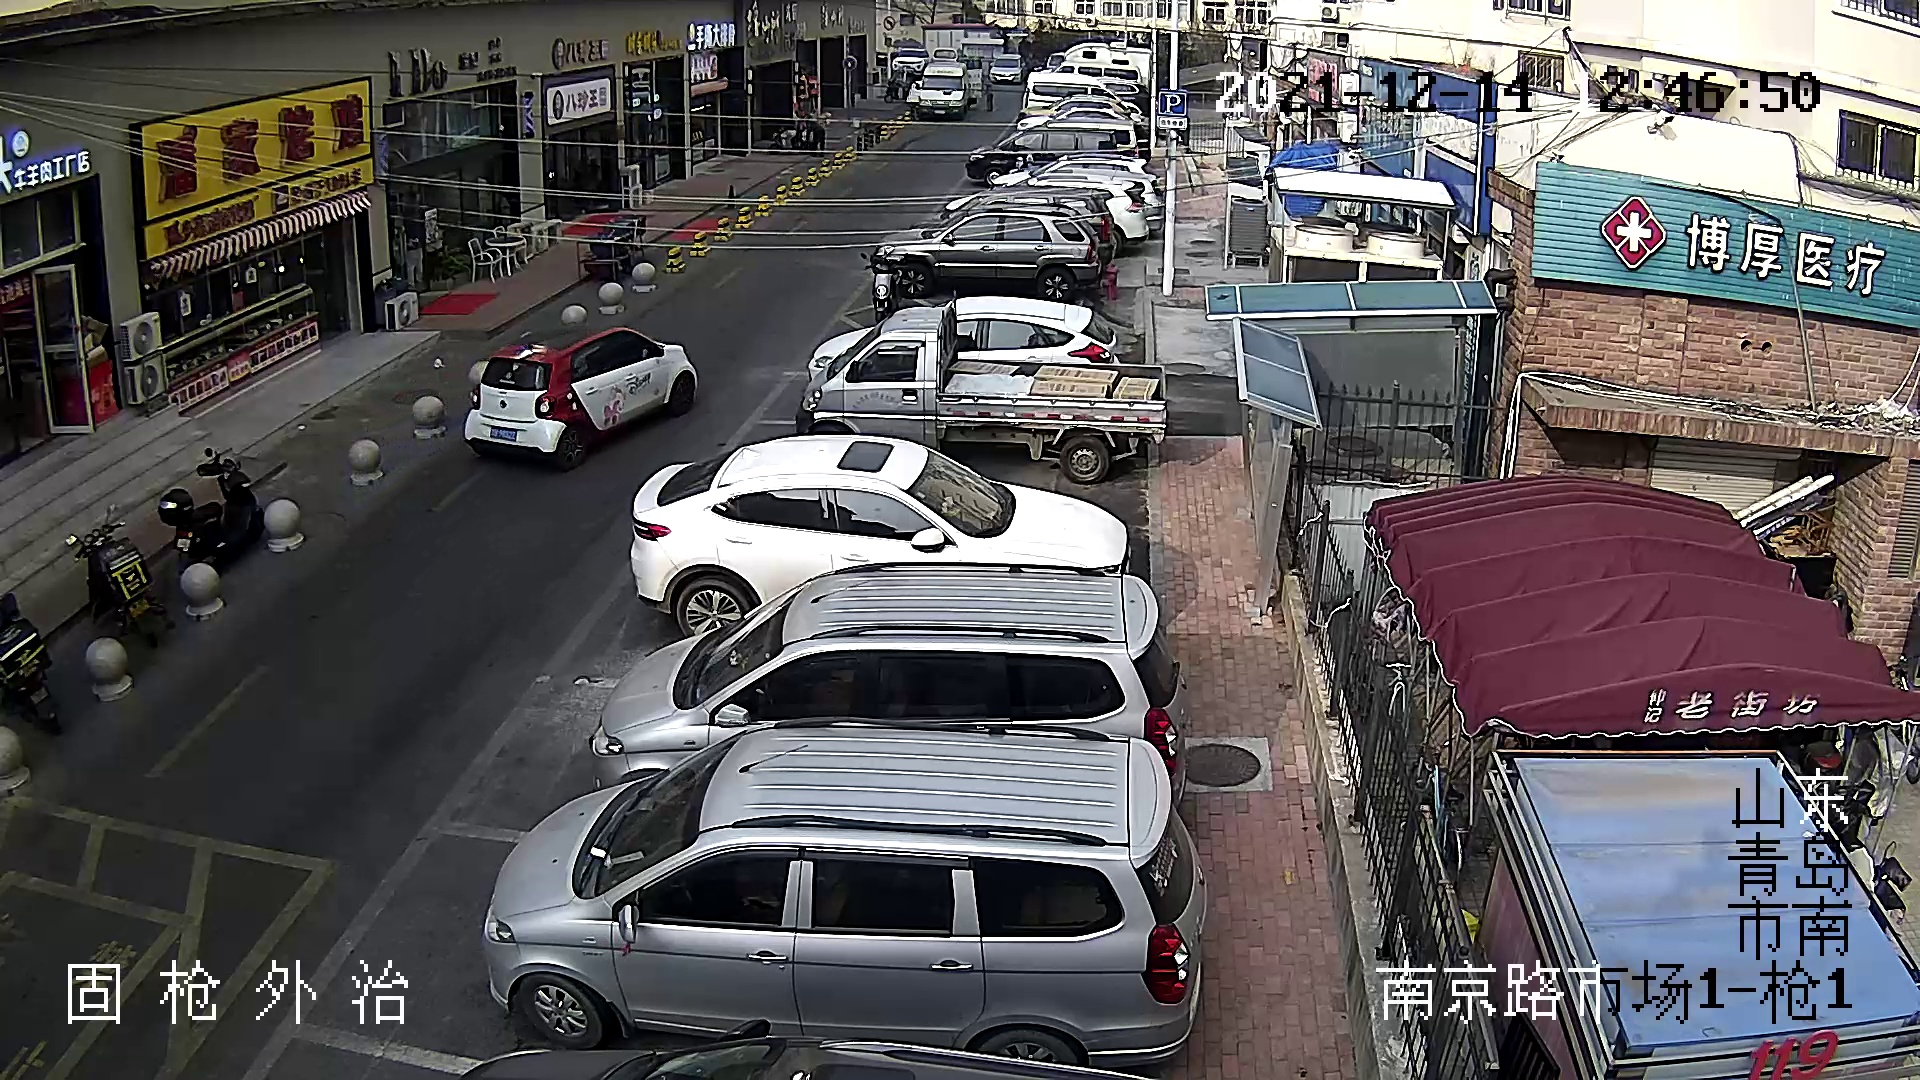chair: (467, 236, 502, 284)
table: (484, 235, 527, 276)
table_chair: (465, 233, 529, 284)
umbrella: (1358, 472, 1917, 738)
